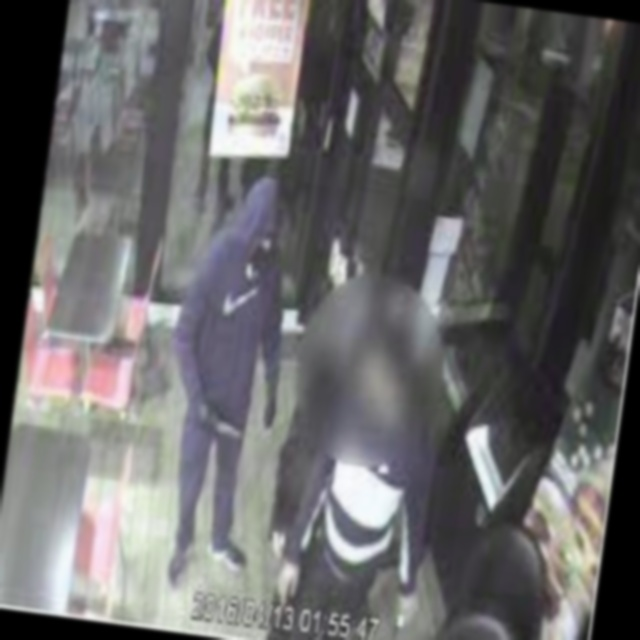gun: (190, 396, 252, 454)
